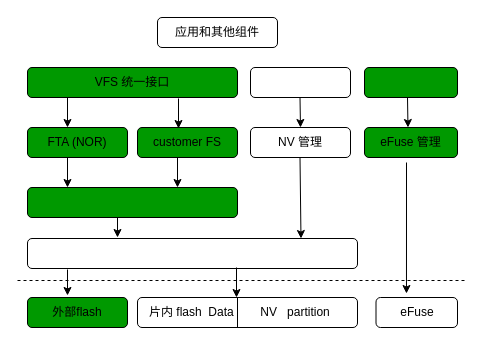
Image size: 486x346. Some labels were removed from this diagram. The box of each missing label's shape, as (x1, y1, x2, y2) in pixels:
eFuse读写接口: (364, 66, 458, 98)
flash驱动: (26, 238, 358, 268)
NV 读写接口: (250, 66, 350, 98)
均衡 写接口: (26, 186, 238, 218)
